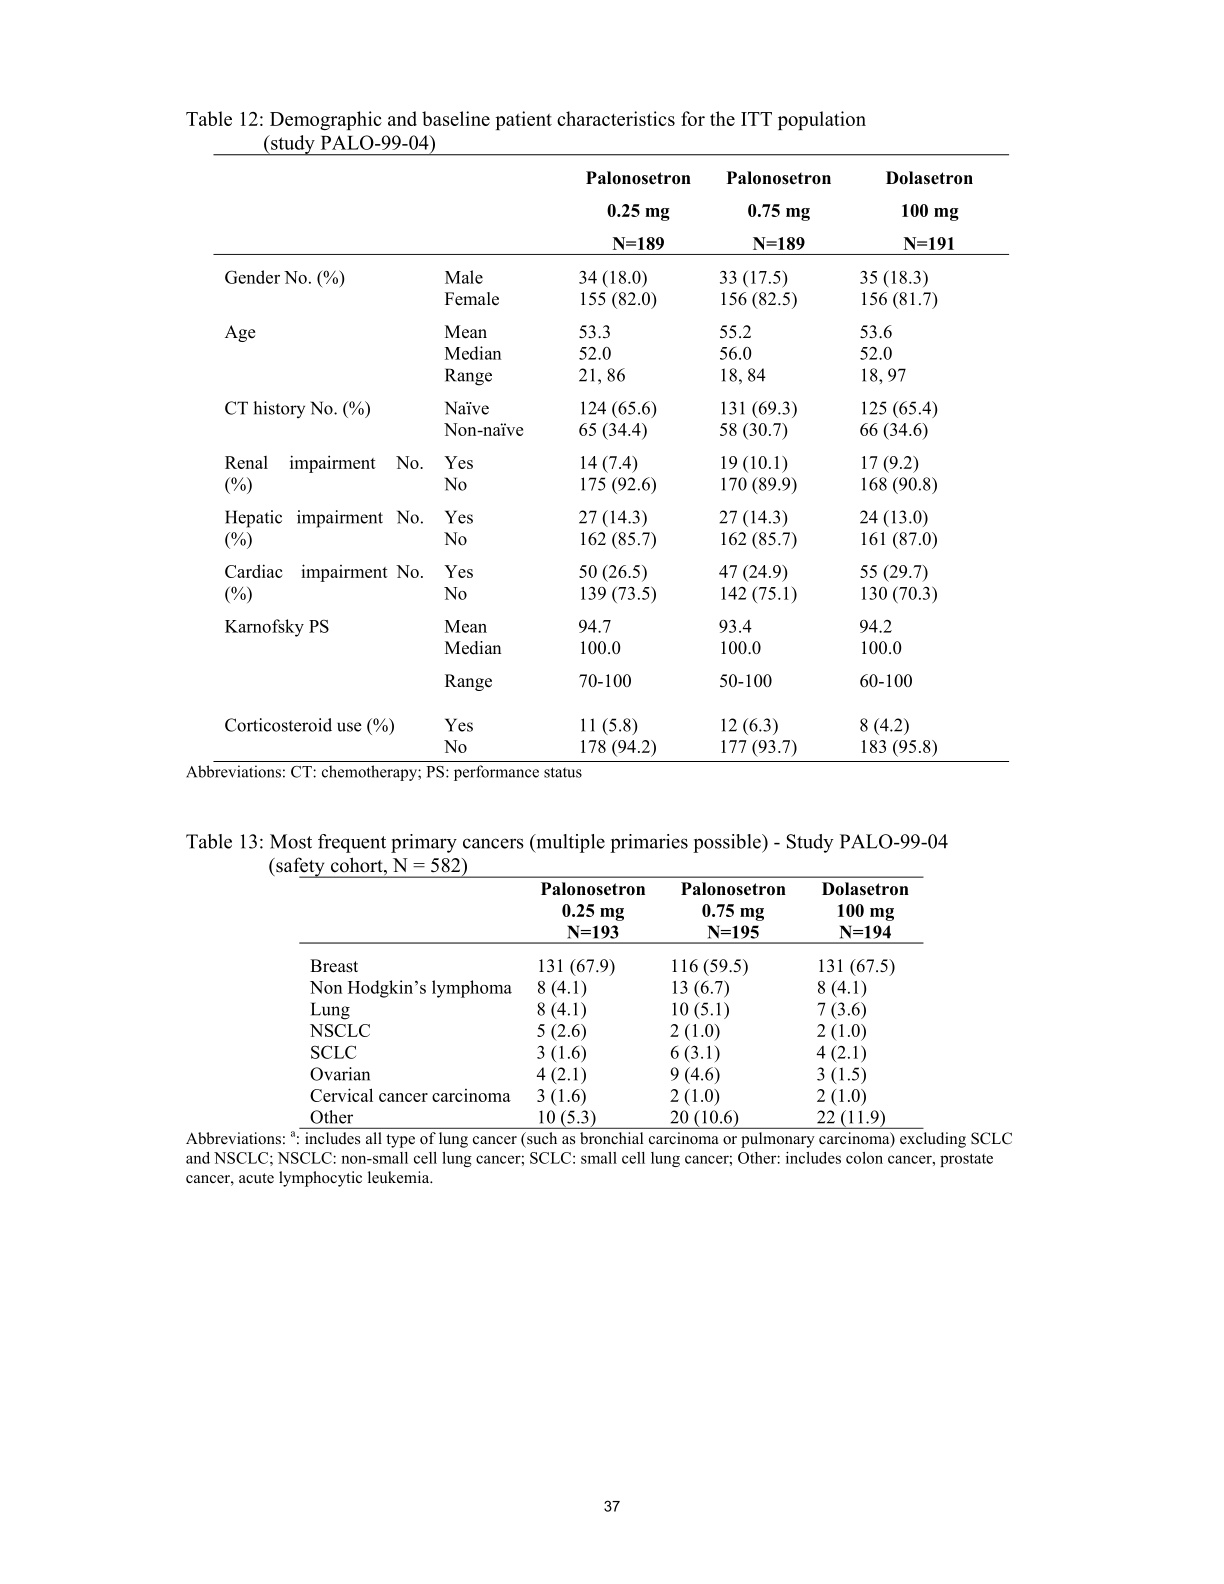partial_lined: (298, 876, 924, 1129)
partial_lined_merged_cells: (212, 153, 1011, 762)
